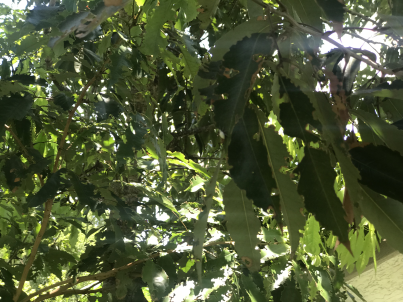weevil: (214, 127, 229, 142)
